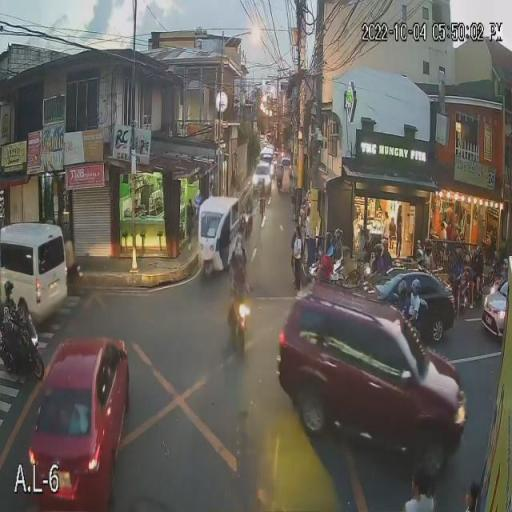helmet: (373, 242, 384, 257), (380, 236, 390, 252), (334, 227, 344, 239), (324, 232, 332, 243)
rider: (333, 241, 343, 270), (323, 243, 336, 259), (372, 258, 384, 272), (382, 252, 392, 268)
